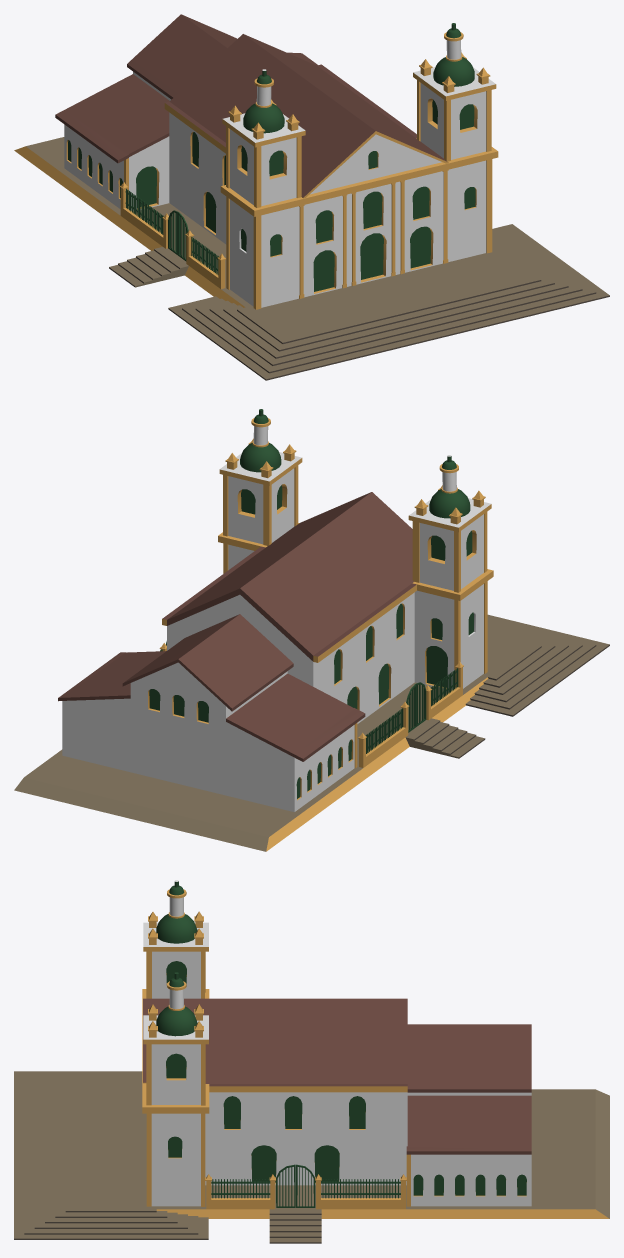
Rendered from MESH_ENV_Igreja.fbx.
The picture shows the model from 3 angles, top to bottom: view 1: azimuth 30°, elevation 25°; view 2: azimuth 150°, elevation 25°; view 3: azimuth 270°, elevation 25°; orthographic projection.
Visible parts, largest first — view 1: Igreja; view 2: Igreja; view 3: Igreja.
Boxes of the visible parts, x1=… form: Igreja: x1=14, y1=14, x2=609, y2=380; Igreja: x1=14, y1=409, x2=609, y2=851; Igreja: x1=14, y1=880, x2=609, y2=1243.
Bounding box in the file's own units: 3605 × 2250 × 5271.
